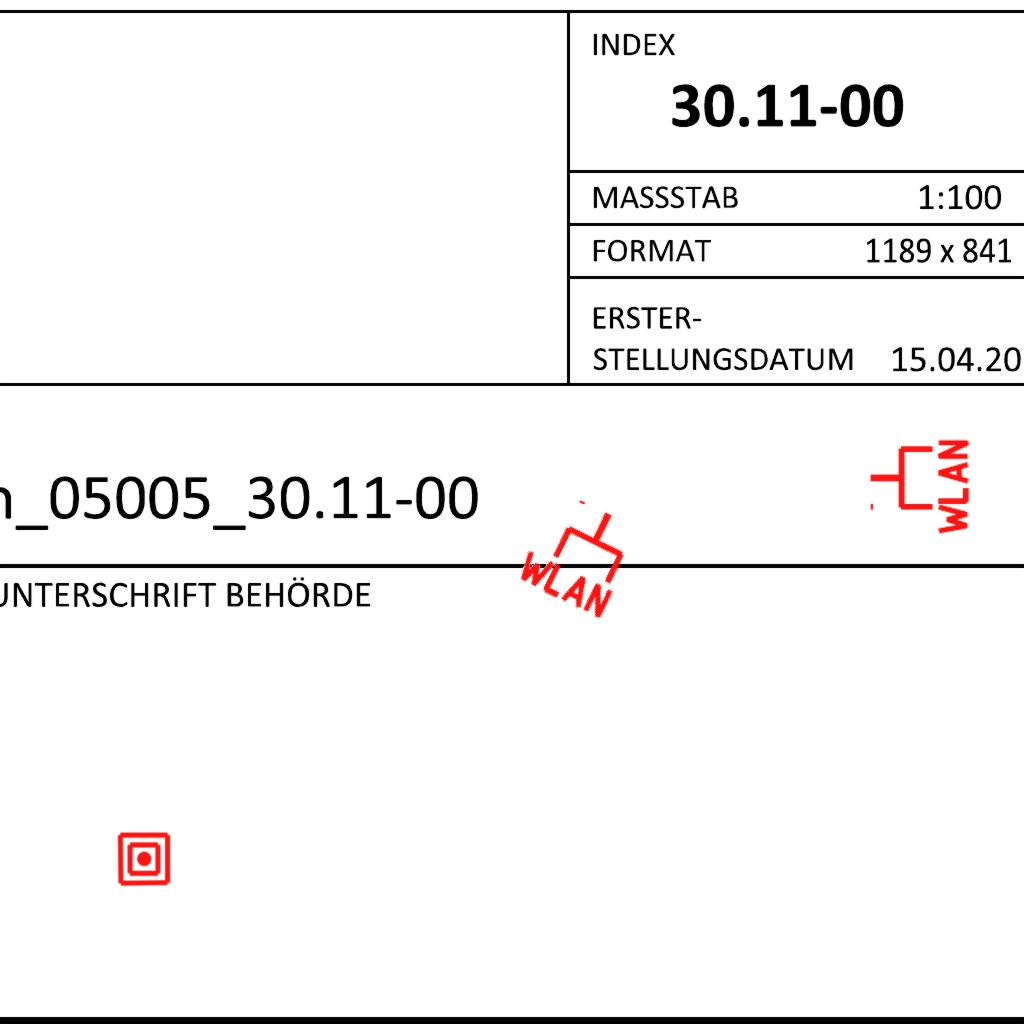NAM-Nichtautomatischer_Melder: (116, 831, 172, 887)
WLAN: (509, 483, 650, 623), (866, 435, 971, 539)
